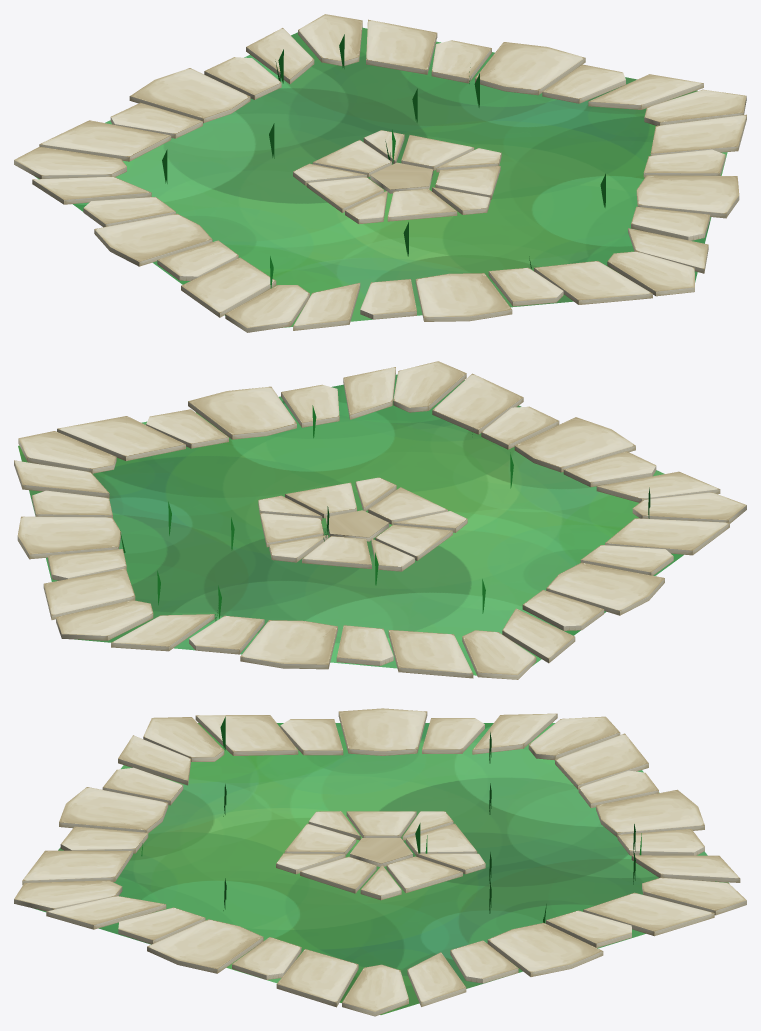
Rendered from map-test.FBX.
The picture shows the model from 3 angles, top to bottom: view 1: azimuth 30°, elevation 25°; view 2: azimuth 150°, elevation 25°; view 3: azimuth 270°, elevation 25°; orthographic projection. The views are drawn at different scales.
Parts seen in each view (by area): view 1: Cylinder001, Object009, Object007, Object005, Object006, Object008, Box111, Box109, Box112, Box110, Box113, Cylinder002 (+5 smaller); view 2: Cylinder001, Object006, Object008, Object009, Object005, Object007, Box110, Box109, Box113, Box111, Box112, Cylinder002 (+5 smaller); view 3: Cylinder001, Object008, Object007, Object005, Object006, Object009, Box112, Box113, Box109, Box111, Box110, Cylinder002 (+5 smaller).
Boxes of the visible parts, <box> form: Cylinder001: <box>35,27,727,327</box>; Object009: <box>293,251,694,330</box>; Object007: <box>298,14,703,109</box>; Object005: <box>32,176,309,332</box>; Object006: <box>14,28,314,178</box>; Object008: <box>628,89,746,273</box>; Box111: <box>387,188,457,221</box>; Box109: <box>306,177,384,212</box>; Box112: <box>401,135,474,170</box>; Box110: <box>312,140,391,177</box>; Box113: <box>435,166,500,199</box>; Cylinder002: <box>370,162,433,193</box>; Cylinder001: <box>18,374,683,675</box>; Object006: <box>111,614,536,679</box>; Object008: <box>18,367,395,473</box>; Object009: <box>393,361,720,502</box>; Object005: <box>502,492,746,663</box>; Object007: <box>14,460,153,640</box>; Box110: <box>302,536,371,569</box>; Box109: <box>375,524,452,560</box>; Box113: <box>285,482,356,518</box>; Box111: <box>368,487,447,524</box>; Box112: <box>260,513,323,547</box>; Cylinder002: <box>326,510,389,541</box>; Cylinder001: <box>34,723,729,1014</box>; Object008: <box>46,896,408,1016</box>; Object007: <box>407,877,746,1006</box>; Object005: <box>143,708,557,761</box>; Object006: <box>528,716,740,882</box>; Object009: <box>14,735,190,911</box>; Box112: <box>386,856,462,892</box>; Box113: <box>300,856,376,893</box>; Box109: <box>346,811,416,837</box>; Box111: <box>284,823,356,855</box>; Box110: <box>406,823,477,855</box>; Cylinder002: <box>350,838,412,866</box>.
Size of the model in its own units: 2.48 by 0.1757 by 2.53.
4 materials, 3 textured.
